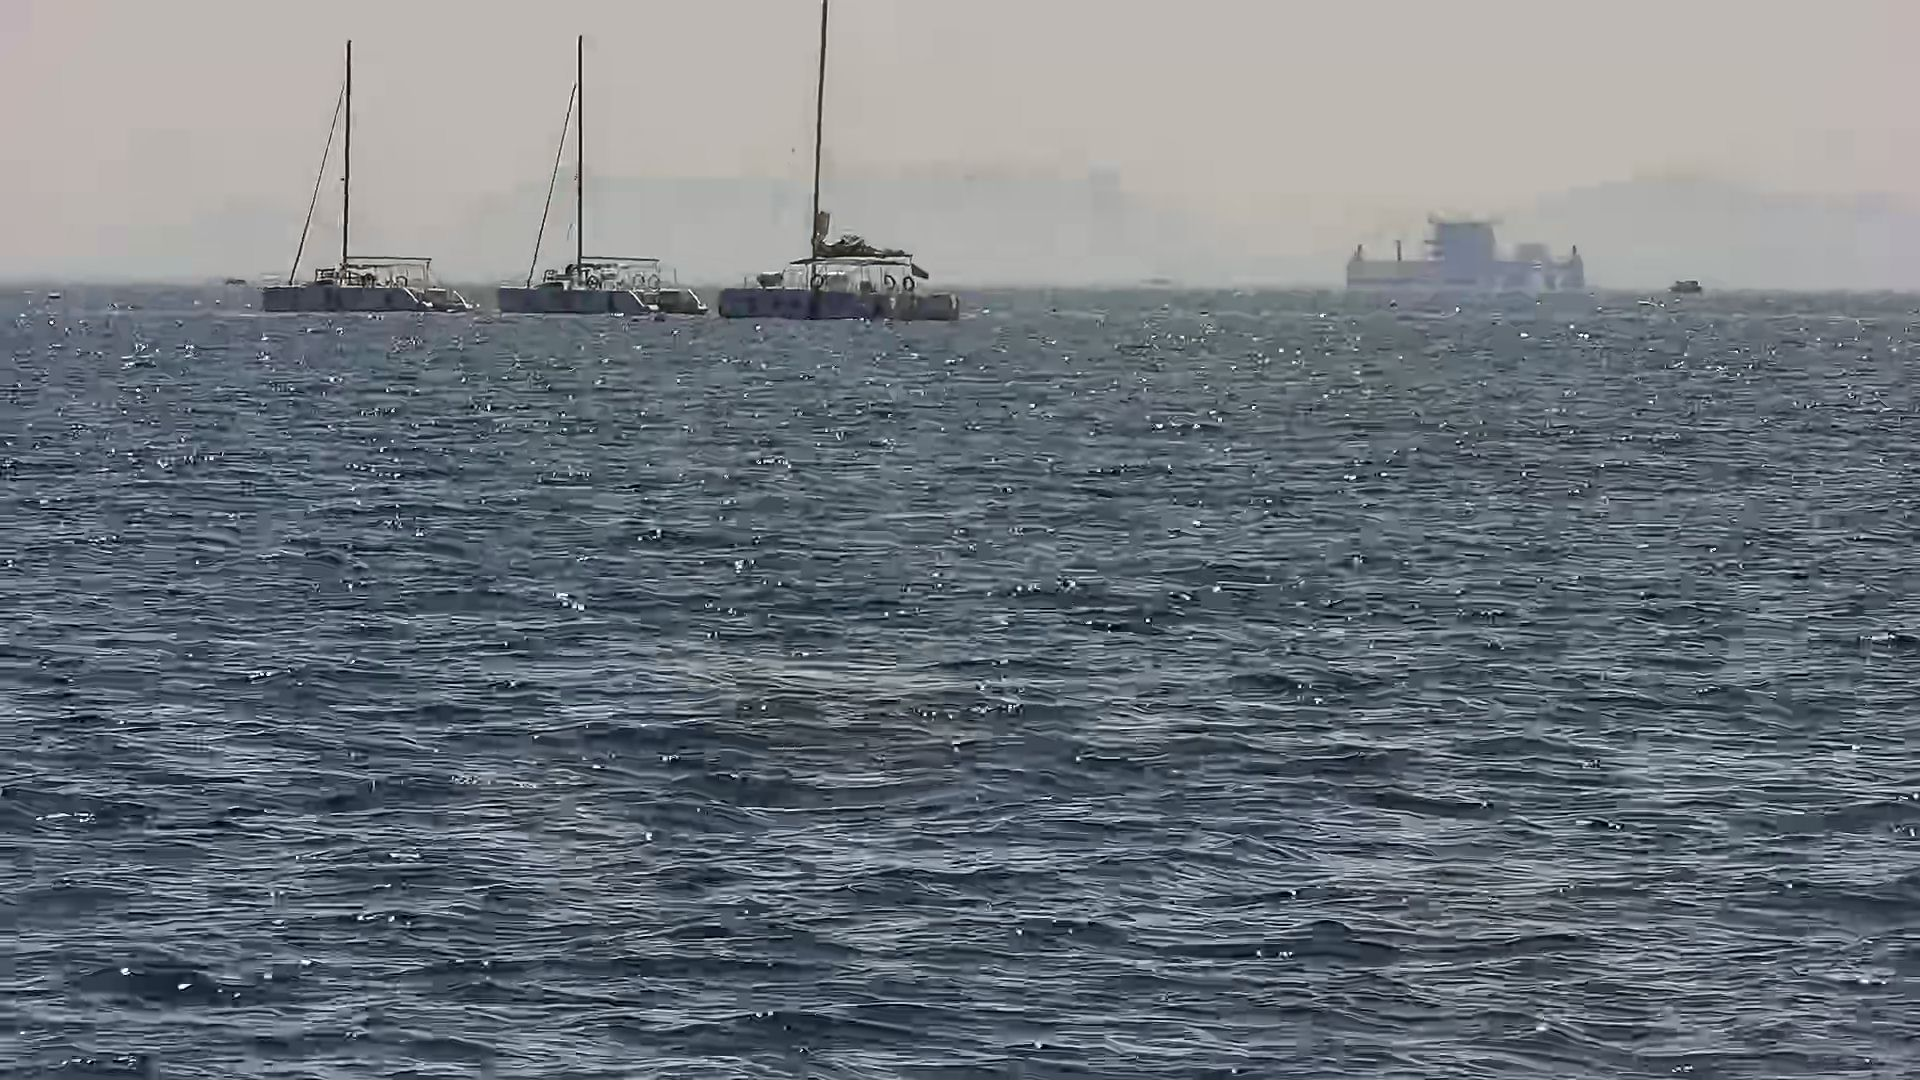boat: (724, 4, 963, 328), (487, 32, 716, 316), (261, 40, 472, 316)
platform: (1335, 210, 1596, 299)
